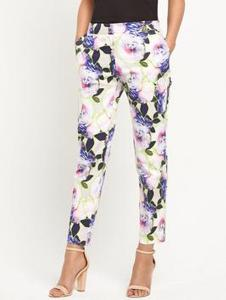C_W_pants: (60, 18, 172, 249)
C_sandals: (46, 242, 165, 298)
